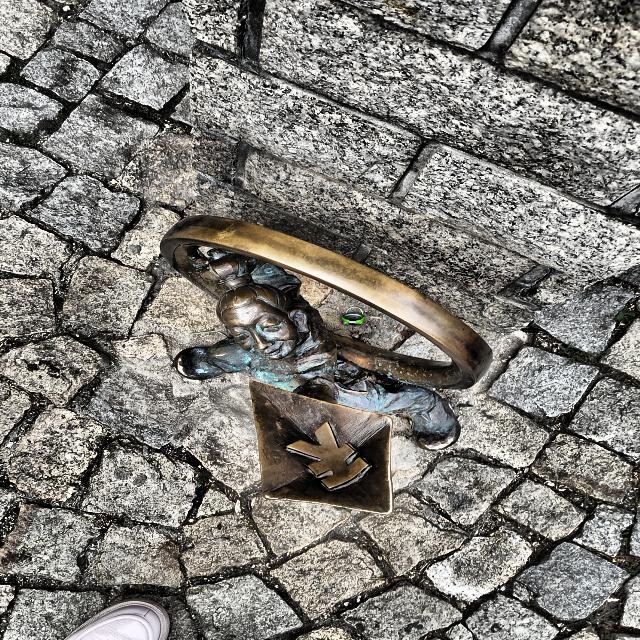TianTian: (160, 215, 492, 514)
